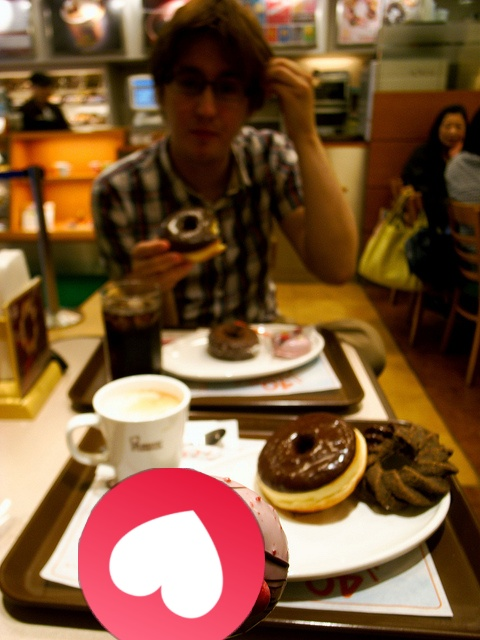love: (78, 468, 265, 640)
